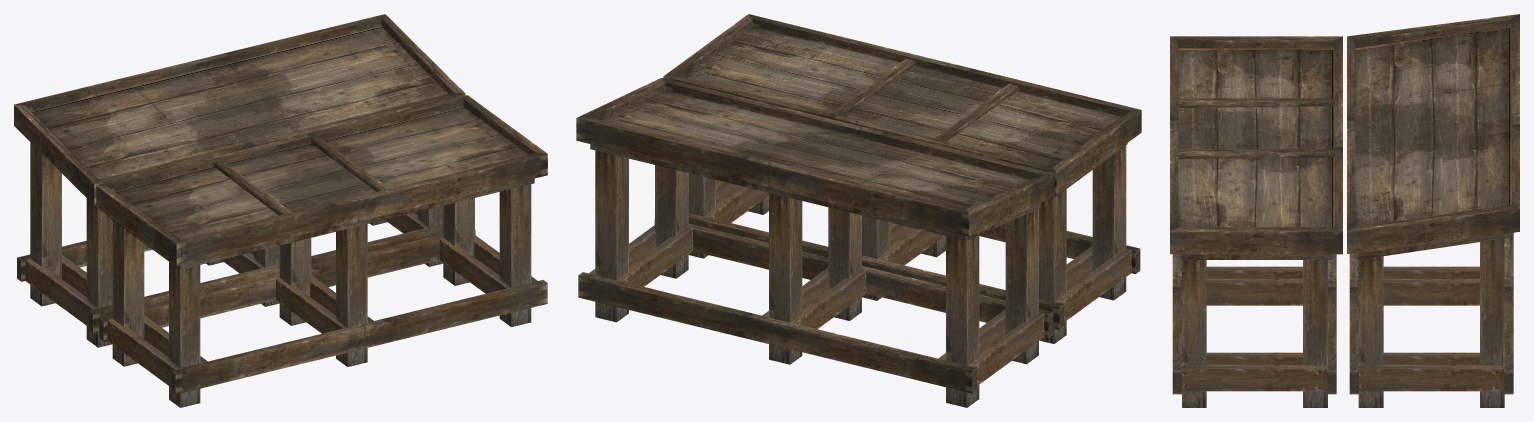
Rendered from shop5.fbx.
The picture shows the model from 3 angles, left to right: view 1: azimuth 30°, elevation 25°; view 2: azimuth 150°, elevation 25°; view 3: azimuth 270°, elevation 25°; orthographic projection. The views are drawn at different scales.
Parts seen in each view (by area): view 1: LV_M5_Port_FishingMarket01A_SM_HSH; view 2: LV_M5_Port_FishingMarket01A_SM_HSH; view 3: LV_M5_Port_FishingMarket01A_SM_HSH.
Part boxes in pixels (<box>): LV_M5_Port_FishingMarket01A_SM_HSH: <box>14,14,547,407</box>; LV_M5_Port_FishingMarket01A_SM_HSH: <box>576,14,1141,407</box>; LV_M5_Port_FishingMarket01A_SM_HSH: <box>1170,14,1519,407</box>.
Bounding box in the file's own units: 0.4454 × 0.2179 × 0.3371.
1 material, 1 textured.
